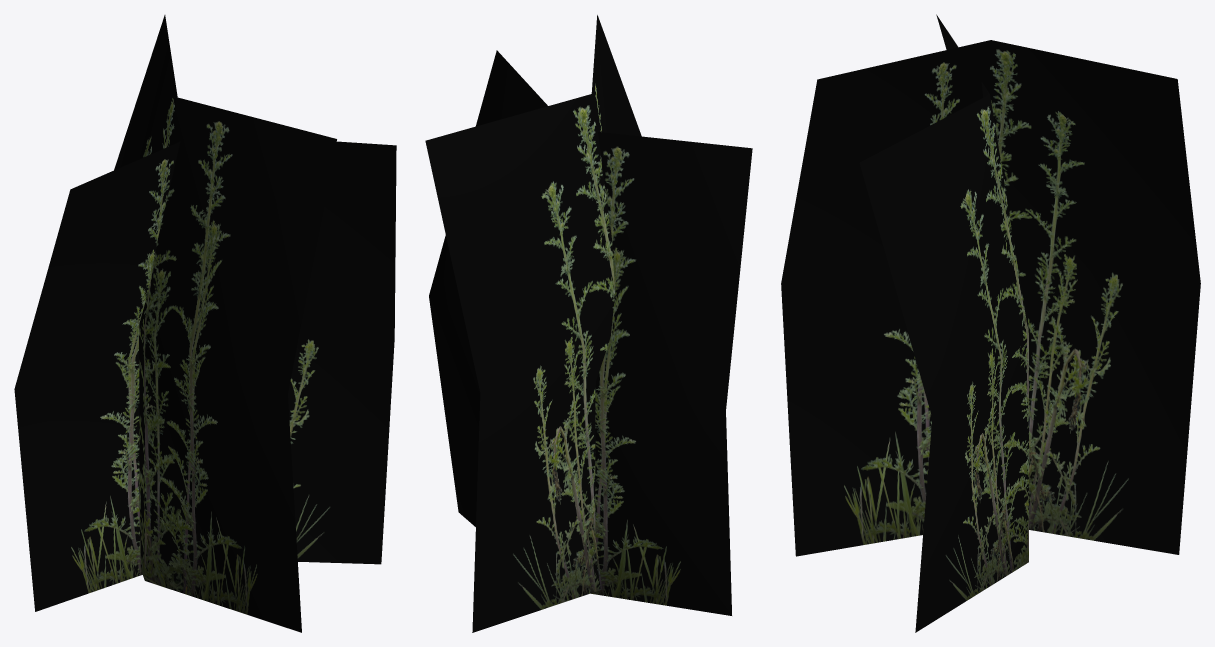
Rendered from ThickWeeds.fbx.
The picture shows the model from 3 angles, left to right: view 1: azimuth 30°, elevation 25°; view 2: azimuth 150°, elevation 25°; view 3: azimuth 270°, elevation 25°; orthographic projection. The views are drawn at different scales.
Visible parts, largest first — view 1: ThickWeeds_LOD0; view 2: ThickWeeds_LOD0; view 3: ThickWeeds_LOD0.
Part boxes in pixels (x1,y1,x2,y2): ThickWeeds_LOD0: (14, 15, 396, 632); ThickWeeds_LOD0: (425, 15, 752, 632); ThickWeeds_LOD0: (781, 14, 1200, 632).
Size of the model in its own units: 79.7 by 109 by 81.62.
